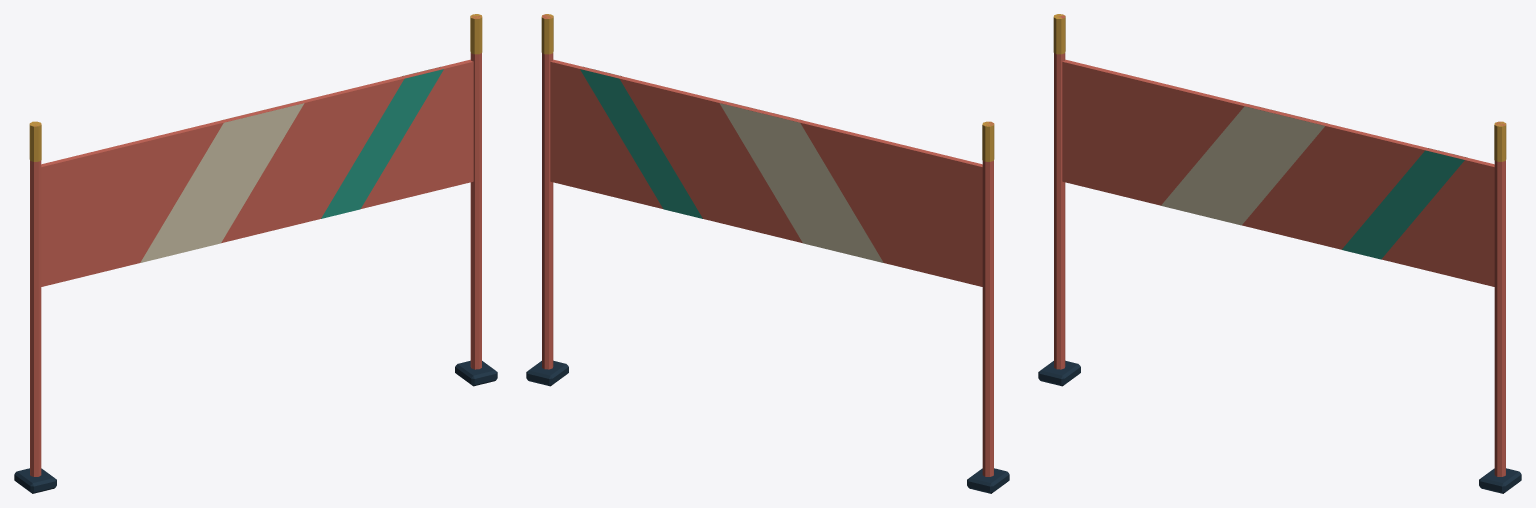
Rendered from slalom-gate.glb.
The picture shows the model from 3 angles, left to right: view 1: azimuth 30°, elevation 25°; view 2: azimuth 150°, elevation 25°; view 3: azimuth 330°, elevation 25°; orthographic projection.
Parts seen in each view (by area): view 1: gate_banner, banner_stripes, gate_poles, gate_feet; view 2: gate_banner, banner_stripes, gate_poles, gate_feet; view 3: gate_banner, banner_stripes, gate_poles, gate_feet.
Boxes of the visible parts, x1,y1,x2,y2 form: gate_banner: (41, 59, 473, 286); banner_stripes: (140, 66, 443, 262); gate_poles: (29, 14, 482, 476); gate_feet: (14, 360, 497, 493); gate_banner: (550, 59, 982, 286); banner_stripes: (580, 66, 883, 262); gate_poles: (541, 14, 994, 476); gate_feet: (526, 360, 1009, 493); gate_banner: (1062, 59, 1494, 286); banner_stripes: (1161, 104, 1465, 259); gate_poles: (1053, 14, 1506, 476); gate_feet: (1038, 360, 1521, 493).
Size of the model in its own units: 3.18 by 2.35 by 0.22.
